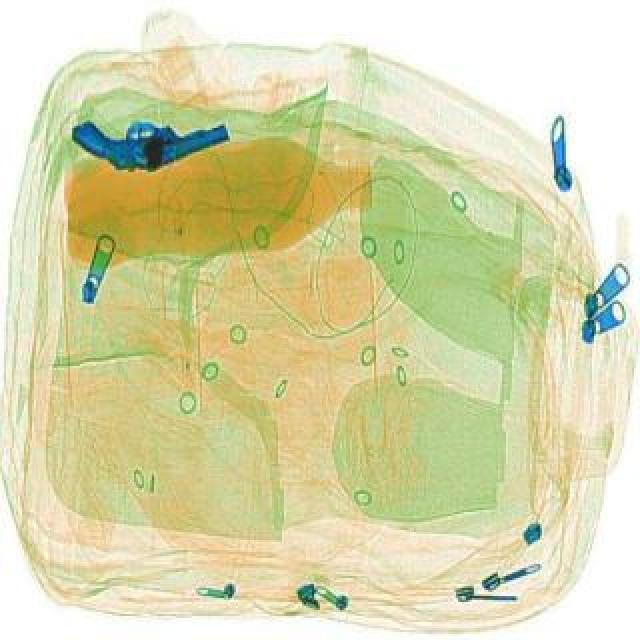gun: (62, 92, 230, 192)
